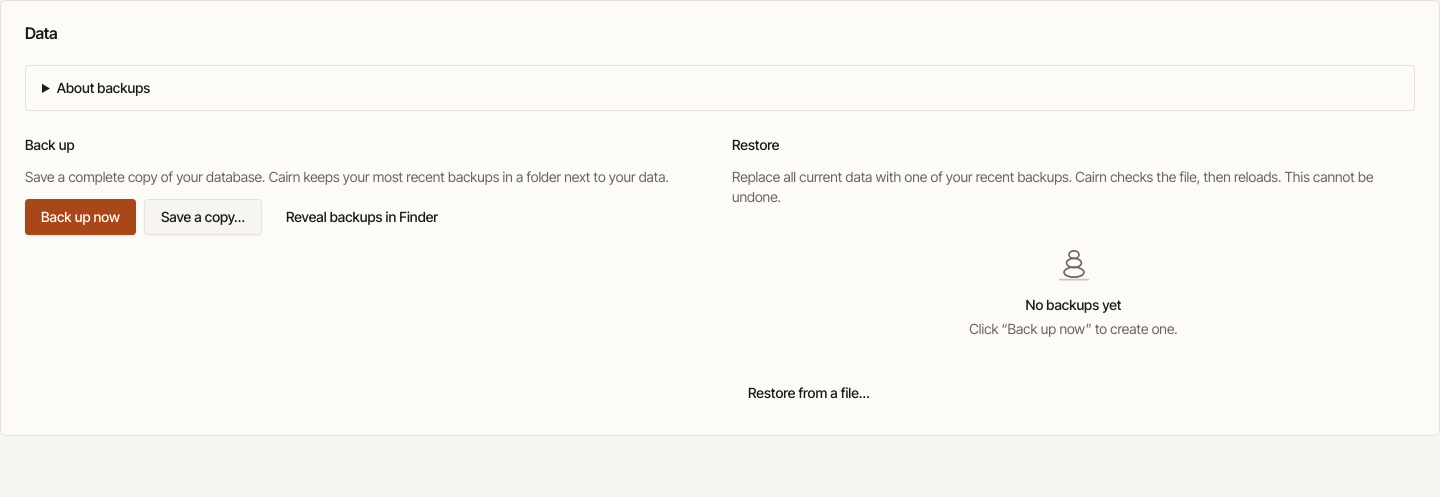
DataSection — desktop (Tauri) path › Restore from a file: an invalid backup is rejected before any confirm
The image size is (1440, 497).
Click the button "Restore from a file…" at (809, 393), box [732,375,886,411]
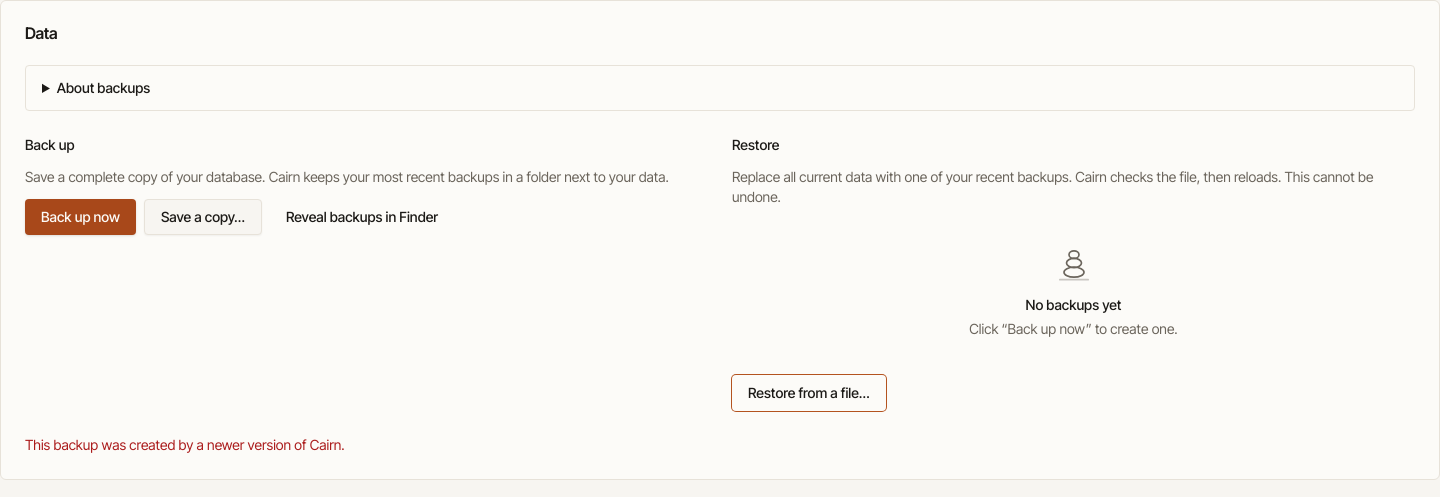
Result: the text "This backup was created by a newer version of Cairn." is shown at [25,436,345,453]
